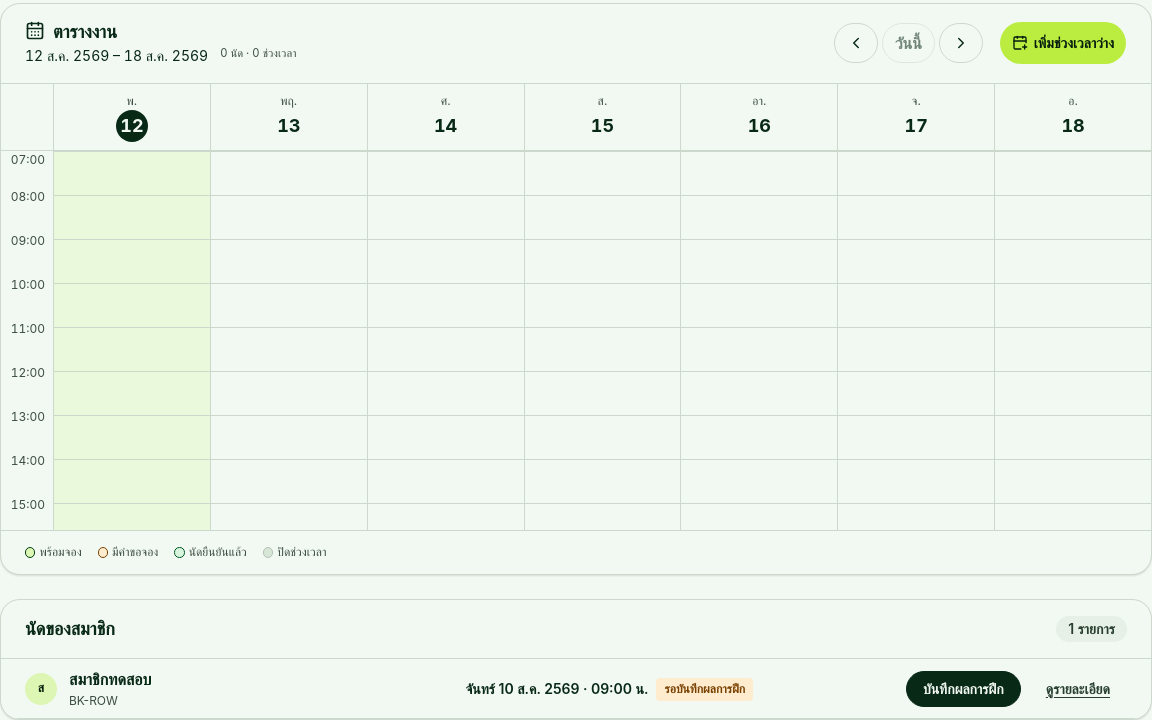
Test: TrainerWorkbench › offers the completion action on the appointment row itself
(page scrolled)
Click the button with aria-label "บันทึกผลการฝึก BK-ROW" at (963, 689), box top-left (906, 671), bottom-right (1021, 707)
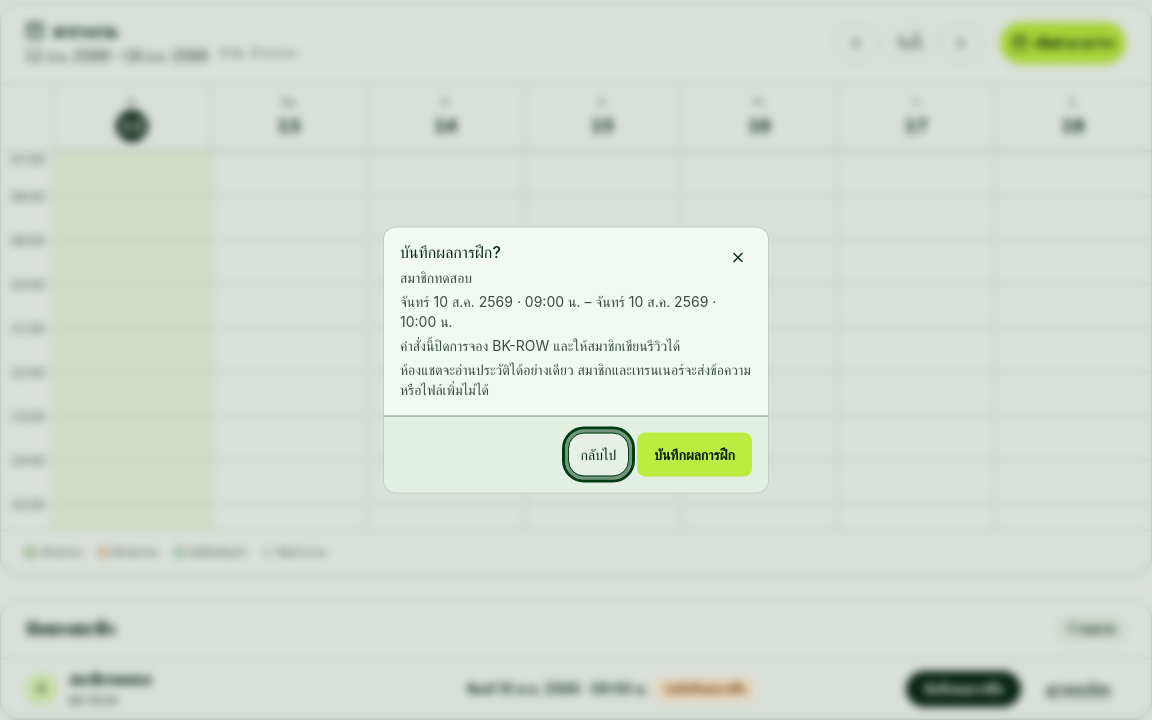
Check: the dialog "บันทึกผลการฝึก?" is shown, box top-left (384, 228), bottom-right (768, 492)
